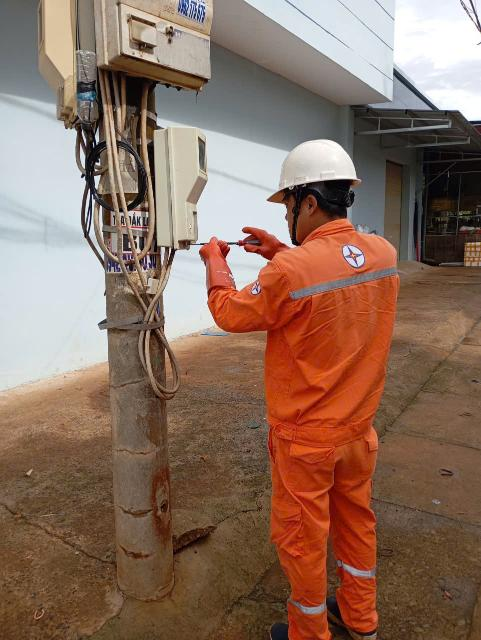gloves: (189, 233, 248, 295), (232, 220, 306, 265)
helmet: (261, 128, 372, 204)
shoes: (323, 593, 386, 640)
